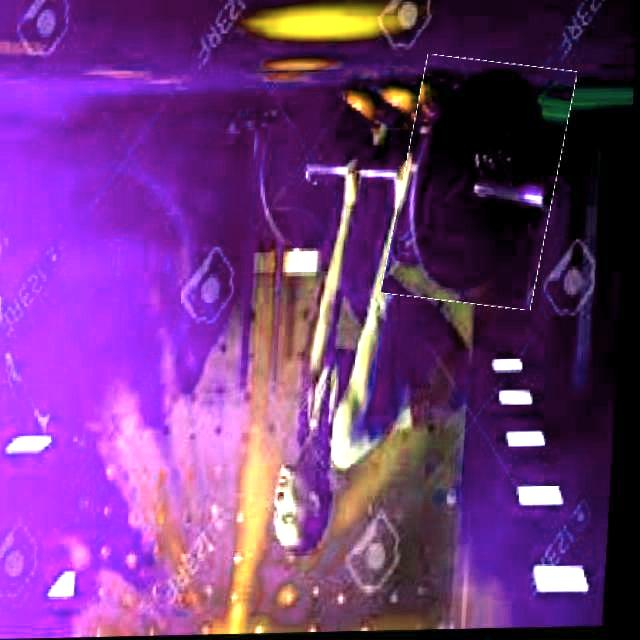barbell: (392, 59, 572, 311)
